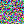cat: (1, 1, 8, 8)
